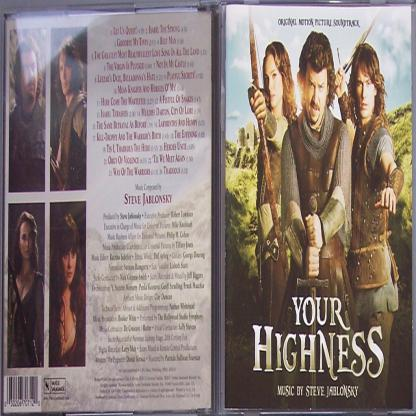book: (0, 10, 213, 416), (210, 0, 413, 415)
